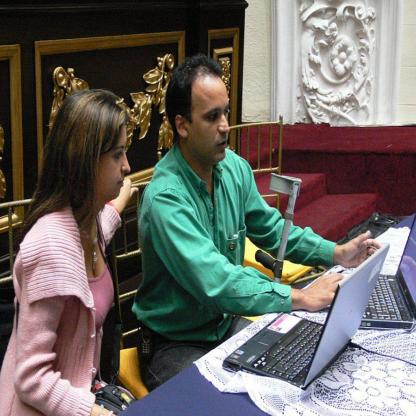board: (222, 241, 389, 391), (346, 214, 416, 329)
